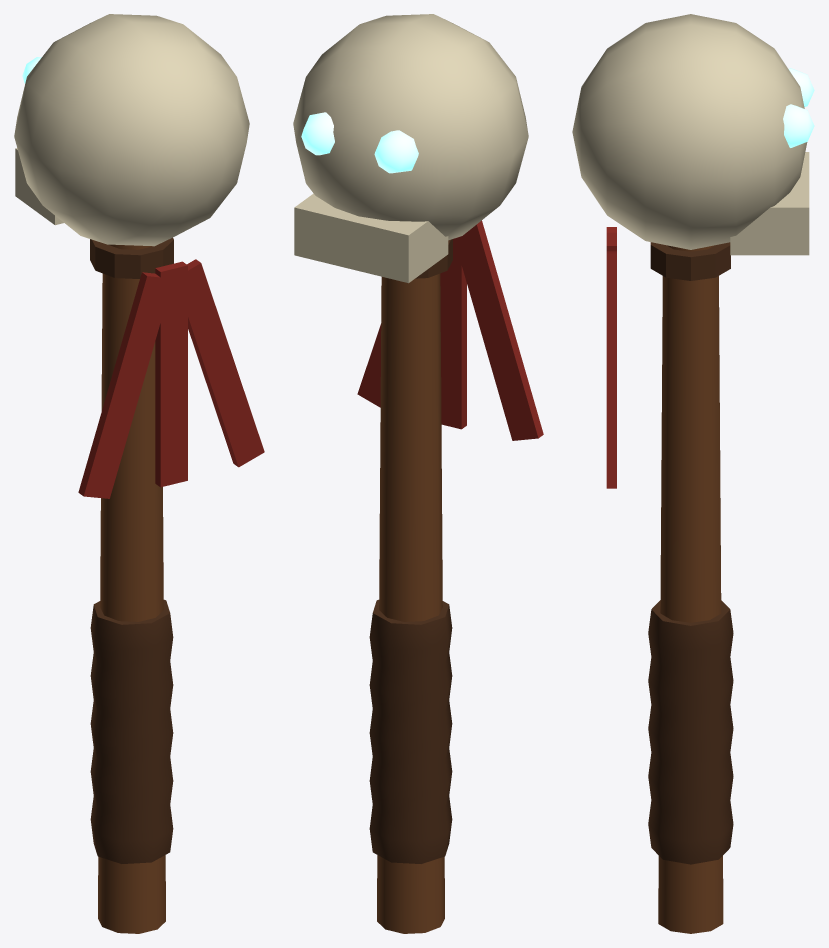
Rendered from fetish.glb.
The picture shows the model from 3 angles, left to right: view 1: azimuth 30°, elevation 25°; view 2: azimuth 150°, elevation 25°; view 3: azimuth 270°, elevation 25°; orthographic projection.
Visible parts, largest first — view 1: Fetish_Bone, Fetish_Leather, Fetish_Feather, Fetish_Wood; view 2: Fetish_Bone, Fetish_Wood, Fetish_Leather, Fetish_Feather, Fetish_Accent; view 3: Fetish_Bone, Fetish_Wood, Fetish_Leather, Fetish_Feather, Fetish_Accent.
Boxes of the visible parts, x1=… form: Fetish_Bone: x1=14, y1=14, x2=249, y2=246; Fetish_Leather: x1=90, y1=237, x2=173, y2=863; Fetish_Feather: x1=78, y1=259, x2=264, y2=498; Fetish_Wood: x1=98, y1=244, x2=165, y2=933; Fetish_Bone: x1=293, y1=14, x2=528, y2=283; Fetish_Wood: x1=377, y1=273, x2=444, y2=933; Fetish_Leather: x1=369, y1=239, x2=452, y2=863; Fetish_Feather: x1=357, y1=220, x2=543, y2=440; Fetish_Accent: x1=301, y1=112, x2=418, y2=173; Fetish_Bone: x1=572, y1=14, x2=809, y2=255; Fetish_Wood: x1=658, y1=245, x2=723, y2=933; Fetish_Leather: x1=648, y1=242, x2=733, y2=864; Fetish_Feather: x1=606, y1=227, x2=616, y2=488; Fetish_Accent: x1=783, y1=68, x2=814, y2=147.
Bounding box in the file's own units: 0.09 × 0.375 × 0.092.
